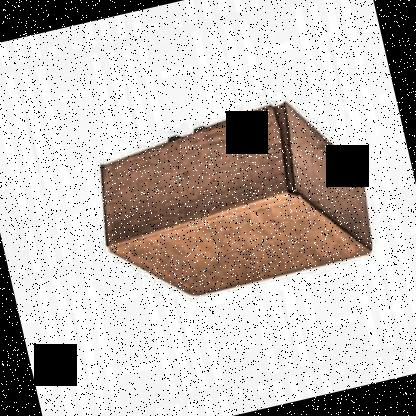no defect parcel: (78, 76, 399, 330)
